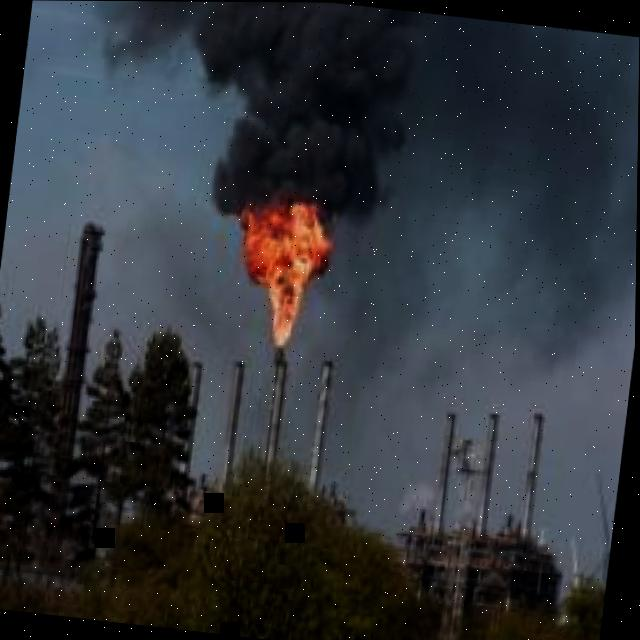fire: (240, 200, 335, 347)
smoke: (4, 1, 640, 490)
